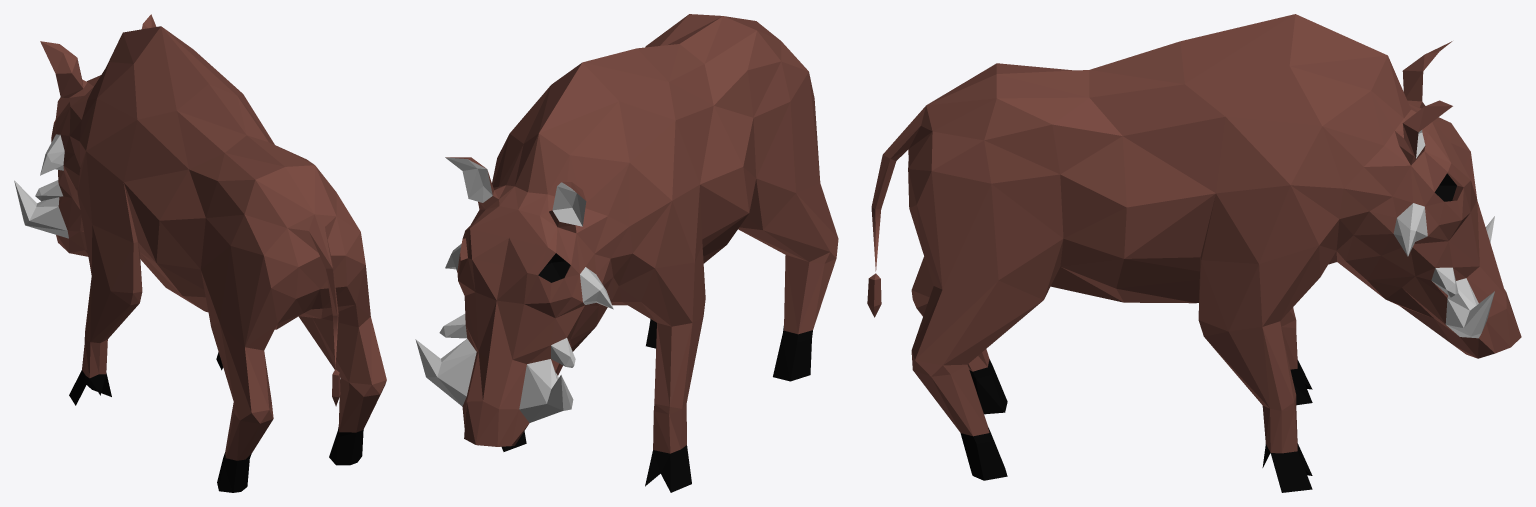
The model's file is BoreCharacter.fbx.
3 renders of one model, left to right at view 1: azimuth 30°, elevation 25°; view 2: azimuth 150°, elevation 25°; view 3: azimuth 270°, elevation 25°, orthographic. The views are drawn at different scales.
Visible parts, largest first — view 1: wildboar; view 2: wildboar; view 3: wildboar.
Boxes of the visible parts, bbox=[...] form: wildboar: bbox=[14, 14, 386, 492]; wildboar: bbox=[415, 14, 838, 492]; wildboar: bbox=[867, 14, 1521, 492].
Bounding box in the file's own units: 155 × 288 × 400.
